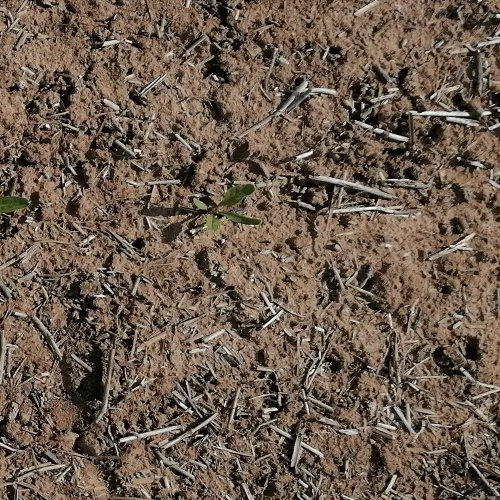beet: (190, 183, 255, 229), (0, 194, 31, 212)
